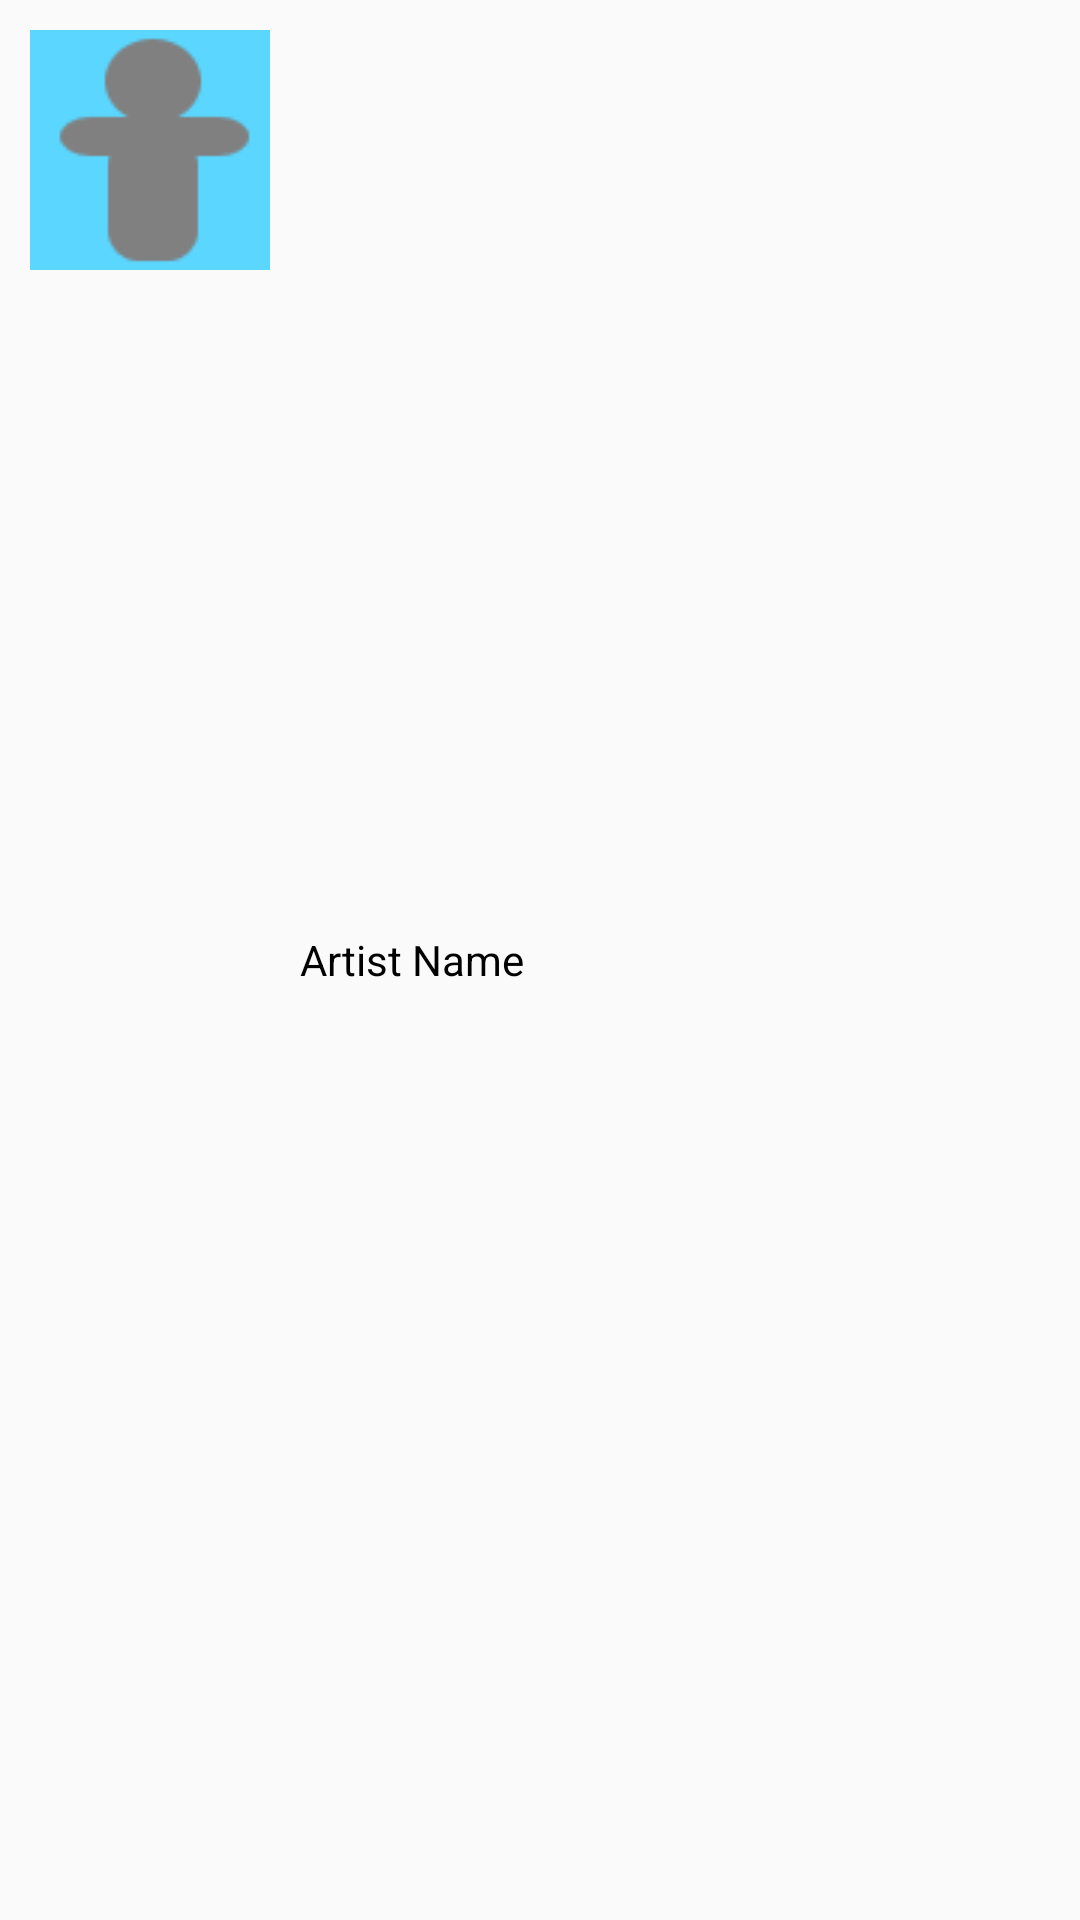

Icons on this 1080px x 1920px Android screen, each with its box as {"left": x1, "top": y1, "right": x2, "bottom": y2}:
stock thumbnail: {"left": 30, "top": 30, "right": 270, "bottom": 270}
